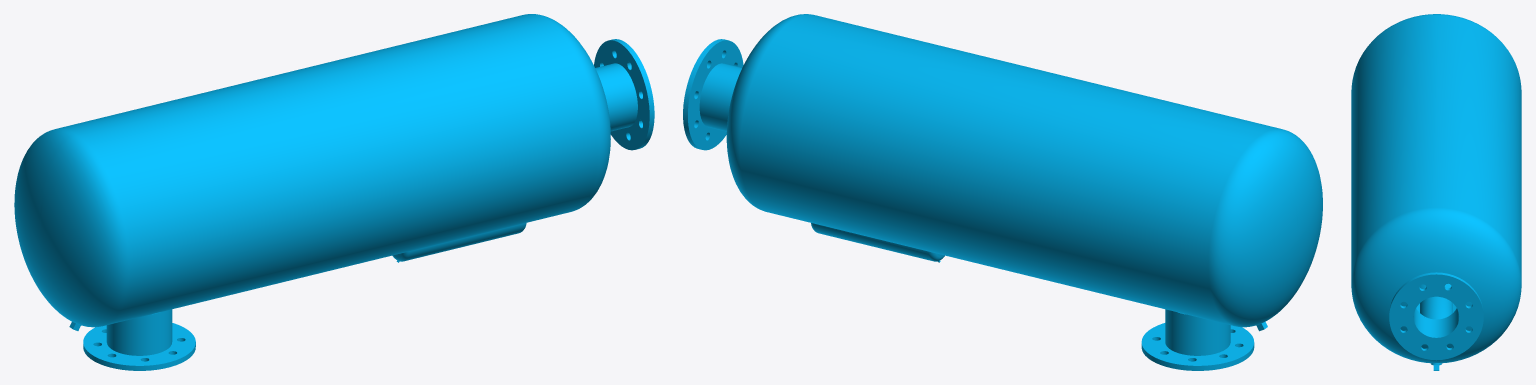
The picture shows the model from 3 angles, left to right: view 1: azimuth 30°, elevation 25°; view 2: azimuth 150°, elevation 25°; view 3: azimuth 270°, elevation 25°; orthographic projection. The views are drawn at different scales.
Parts seen in each view (by area): view 1: 3D; view 2: 3D; view 3: 3D.
Boxes of the visible parts, left/top/right/bottom form: 3D: left=14, top=14, right=654, bottom=370; 3D: left=683, top=14, right=1322, bottom=370; 3D: left=1351, top=14, right=1521, bottom=370.
Size of the model in its own units: 15.28 by 5.63 by 4.57.
